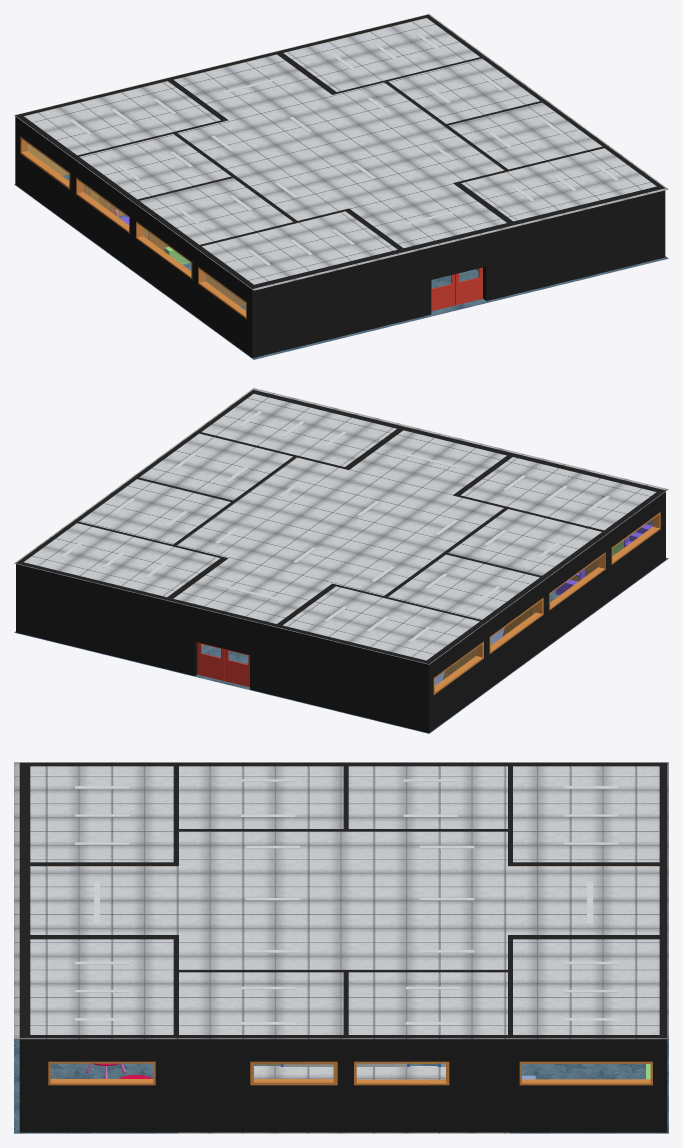
File: Guarderia_01 (1).fbx
3 views of the same model, one above another, from view 1: azimuth 30°, elevation 25°; view 2: azimuth 150°, elevation 25°; view 3: azimuth 270°, elevation 25° (orthographic). The views are drawn at different scales.
Parts seen in each view (by area): view 1: Techos, Plane, Pisos, Cube.010, Cube.011, Cube.070; view 2: Techos, Plane, Pisos, Cube.009, Cube.008, Cube.070; view 3: Techos, Plane, Pisos, Cube.070, Cube.079, Cube.077.
Boxes of the visible parts, x1=… form: Techos: x1=14, y1=14, x2=668, y2=290; Plane: x1=15, y1=14, x2=665, y2=357; Pisos: x1=14, y1=174, x2=668, y2=359; Cube.010: x1=455, y1=267, x2=482, y2=305; Cube.011: x1=431, y1=274, x2=455, y2=311; Cube.070: x1=211, y1=97, x2=454, y2=197; Techos: x1=14, y1=388, x2=668, y2=664; Plane: x1=16, y1=390, x2=665, y2=733; Pisos: x1=14, y1=555, x2=668, y2=733; Cube.009: x1=197, y1=642, x2=224, y2=680; Cube.008: x1=224, y1=649, x2=249, y2=687; Cube.070: x1=215, y1=481, x2=457, y2=581; Techos: x1=14, y1=762, x2=668, y2=1039; Plane: x1=19, y1=762, x2=667, y2=1132; Pisos: x1=14, y1=1039, x2=668, y2=1133; Cube.070: x1=246, y1=845, x2=474, y2=952; Cube.079: x1=75, y1=961, x2=129, y2=1020; Cube.077: x1=564, y1=961, x2=618, y2=1020.
Bounding box in the file's own units: 2500 × 407 × 2500.
